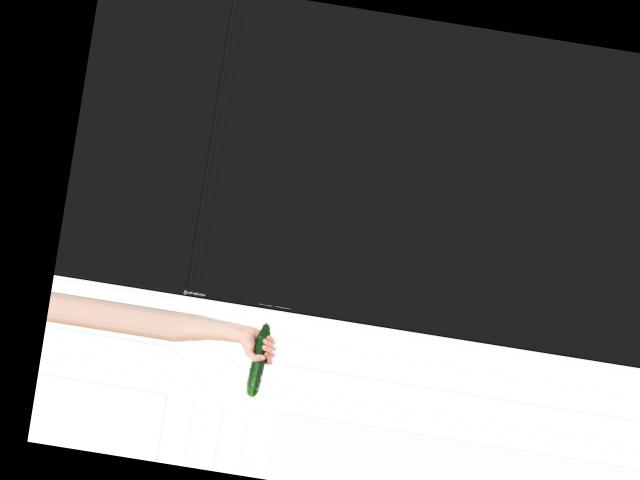cucumber: (245, 320, 272, 397)
